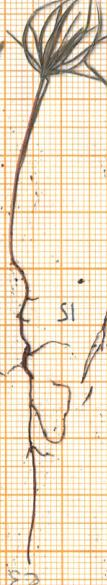flower: (0, 0, 107, 86)
root: (0, 299, 75, 570)
stem: (0, 84, 59, 299)
